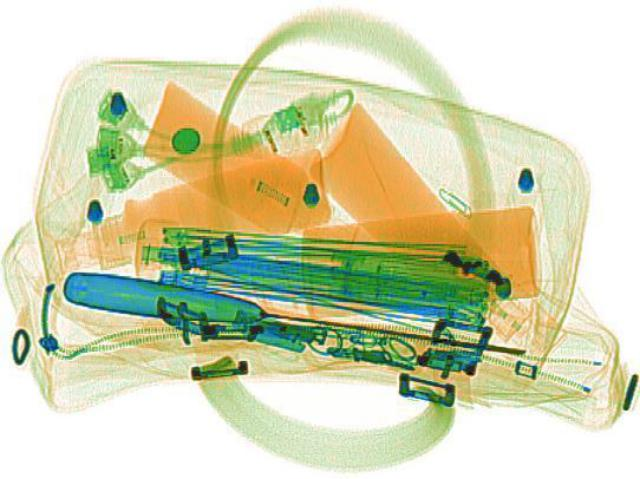Knife: (57, 266, 527, 368)
